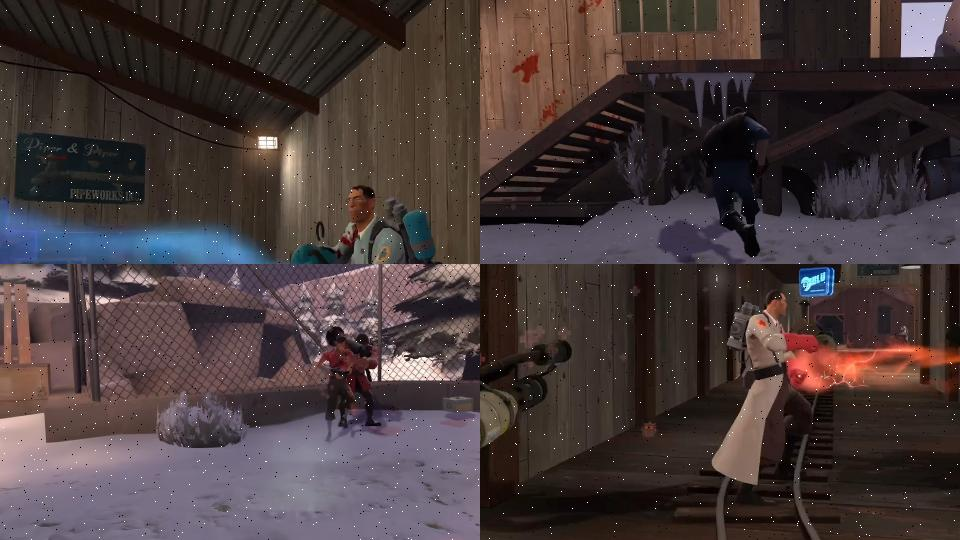Enemy: (711, 287, 849, 509), (480, 264, 574, 540), (233, 183, 480, 264), (701, 103, 775, 258), (326, 326, 382, 427), (317, 335, 355, 443)
